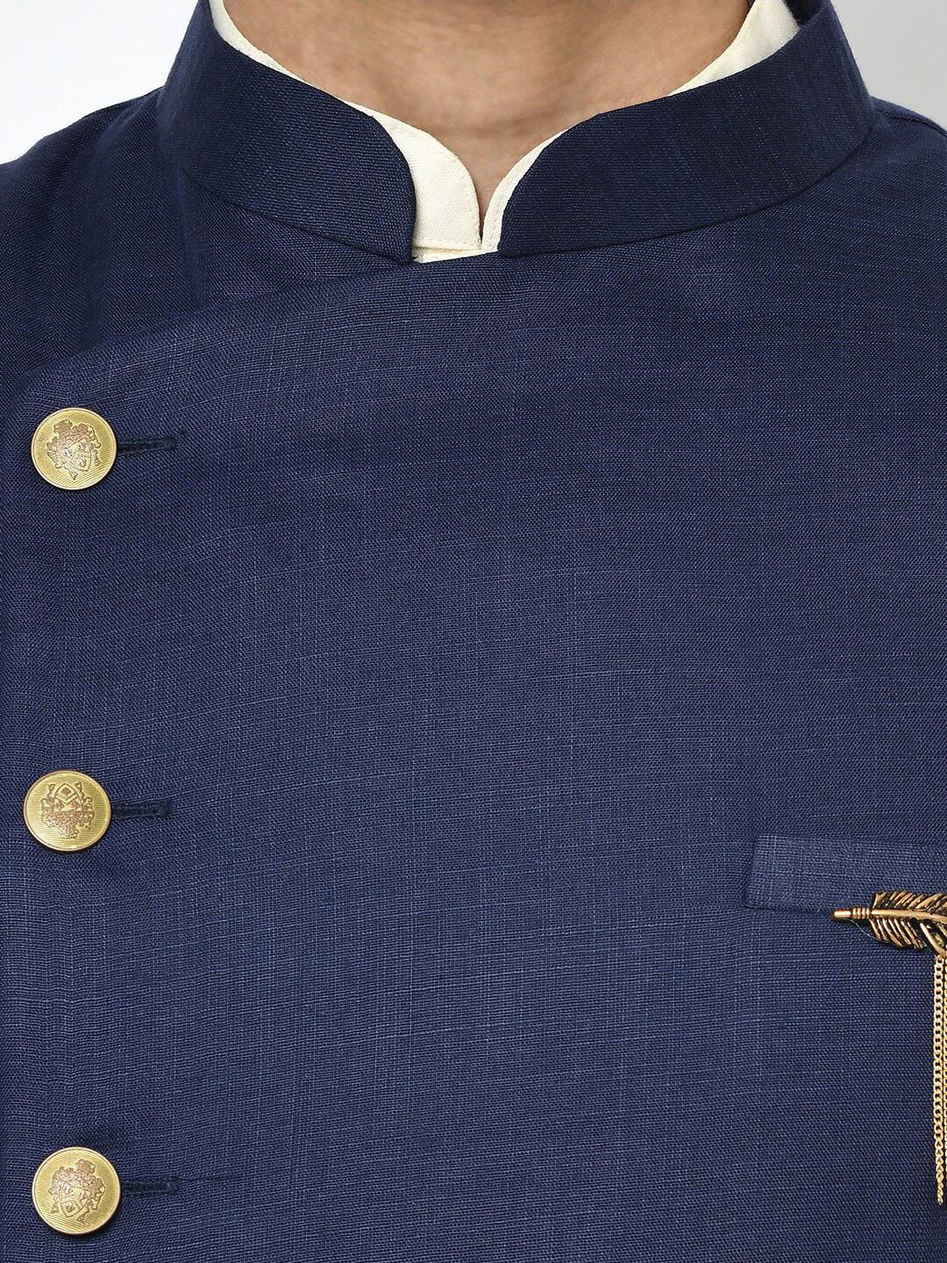Plain Sherwani: (3, 0, 946, 1253)
